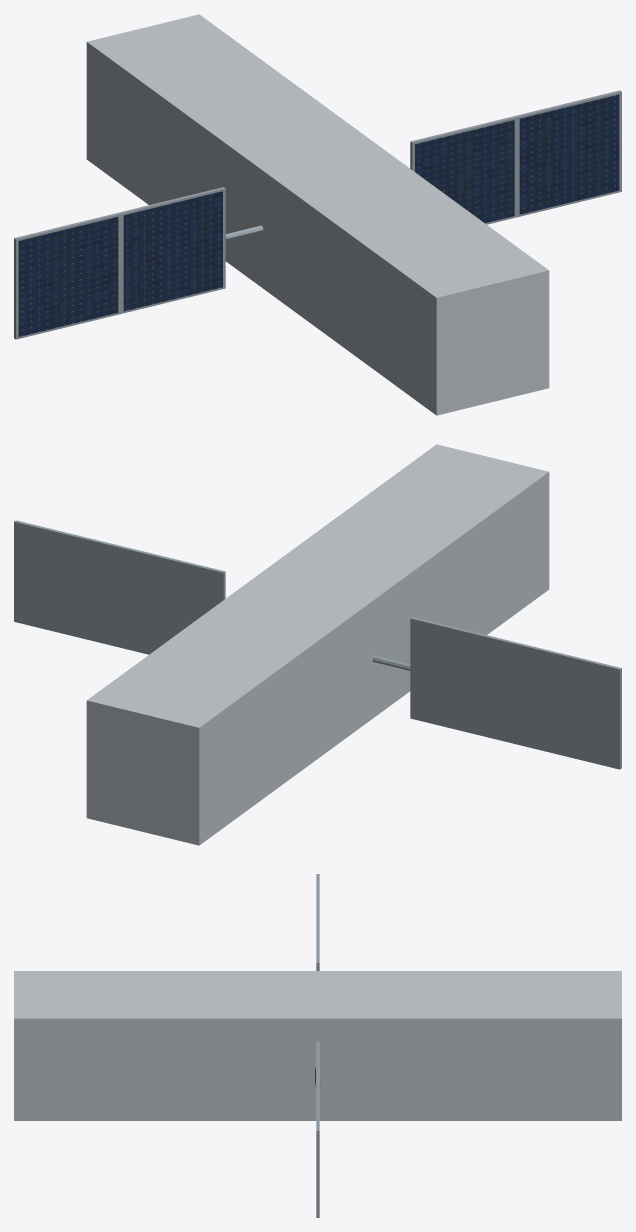
File: ref-quadsat-42791.glb
3 views of the same model, one above another, from view 1: azimuth 30°, elevation 25°; view 2: azimuth 150°, elevation 25°; view 3: azimuth 270°, elevation 25° (orthographic). The views are drawn at different scales.
Visible parts, largest first — view 1: Spacecraft body, Photovoltaic laminates (×4), Array frame (×4); view 2: Spacecraft body, Array frame (×4); view 3: Spacecraft body, Array frame.
Boxes of the visible parts, <box> form: Spacecraft body: <box>86,14,549,415</box>; Photovoltaic laminates (×4): <box>18,94,619,336</box>; Array frame (×4): <box>14,90,621,339</box>; Spacecraft body: <box>86,444,549,845</box>; Array frame (×4): <box>14,520,621,769</box>; Spacecraft body: <box>14,971,621,1120</box>; Array frame: <box>316,1086,319,1217</box>.
Size of the model in its own units: 0.7 by 0.13 by 0.7.
Materials: 3 (1 with a texture image).
